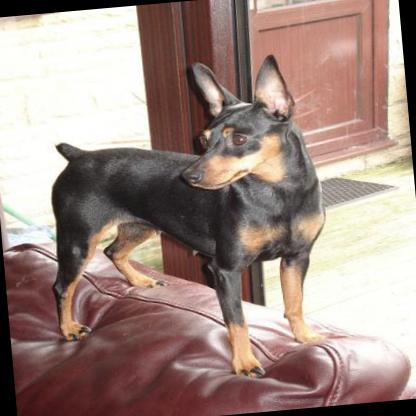miniature_pinscher: (29, 53, 339, 394)
